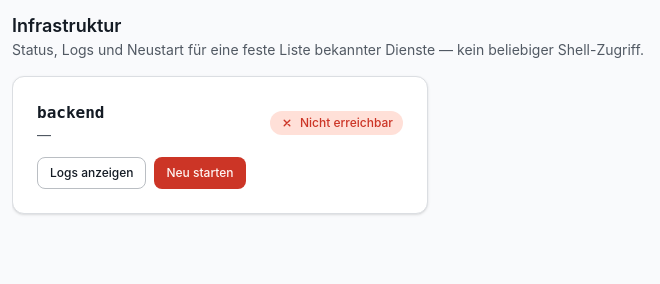
Test: OpsPage › loads and displays logs on demand
Expected: the heading "backend" is shown, [37, 101, 104, 125]
Click the button "Logs anzeigen". click: [92, 173]
box: [37, 157, 146, 189]
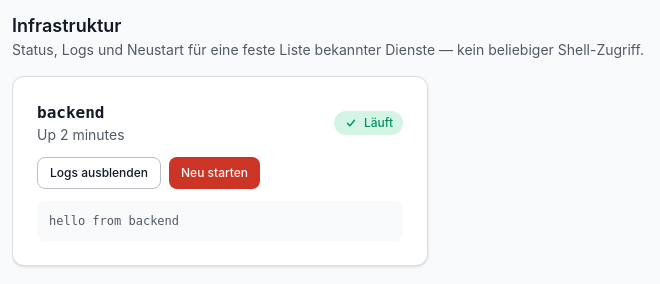
Now the text "hello from backend" is shown, box [37, 201, 403, 241]
